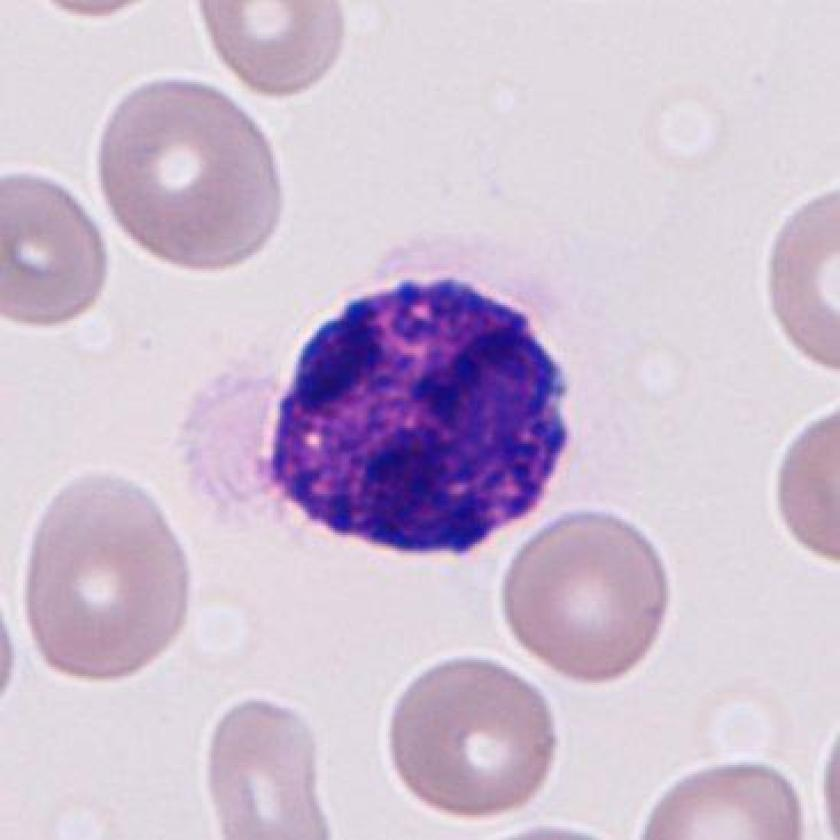basophil: (245, 272, 603, 563)
